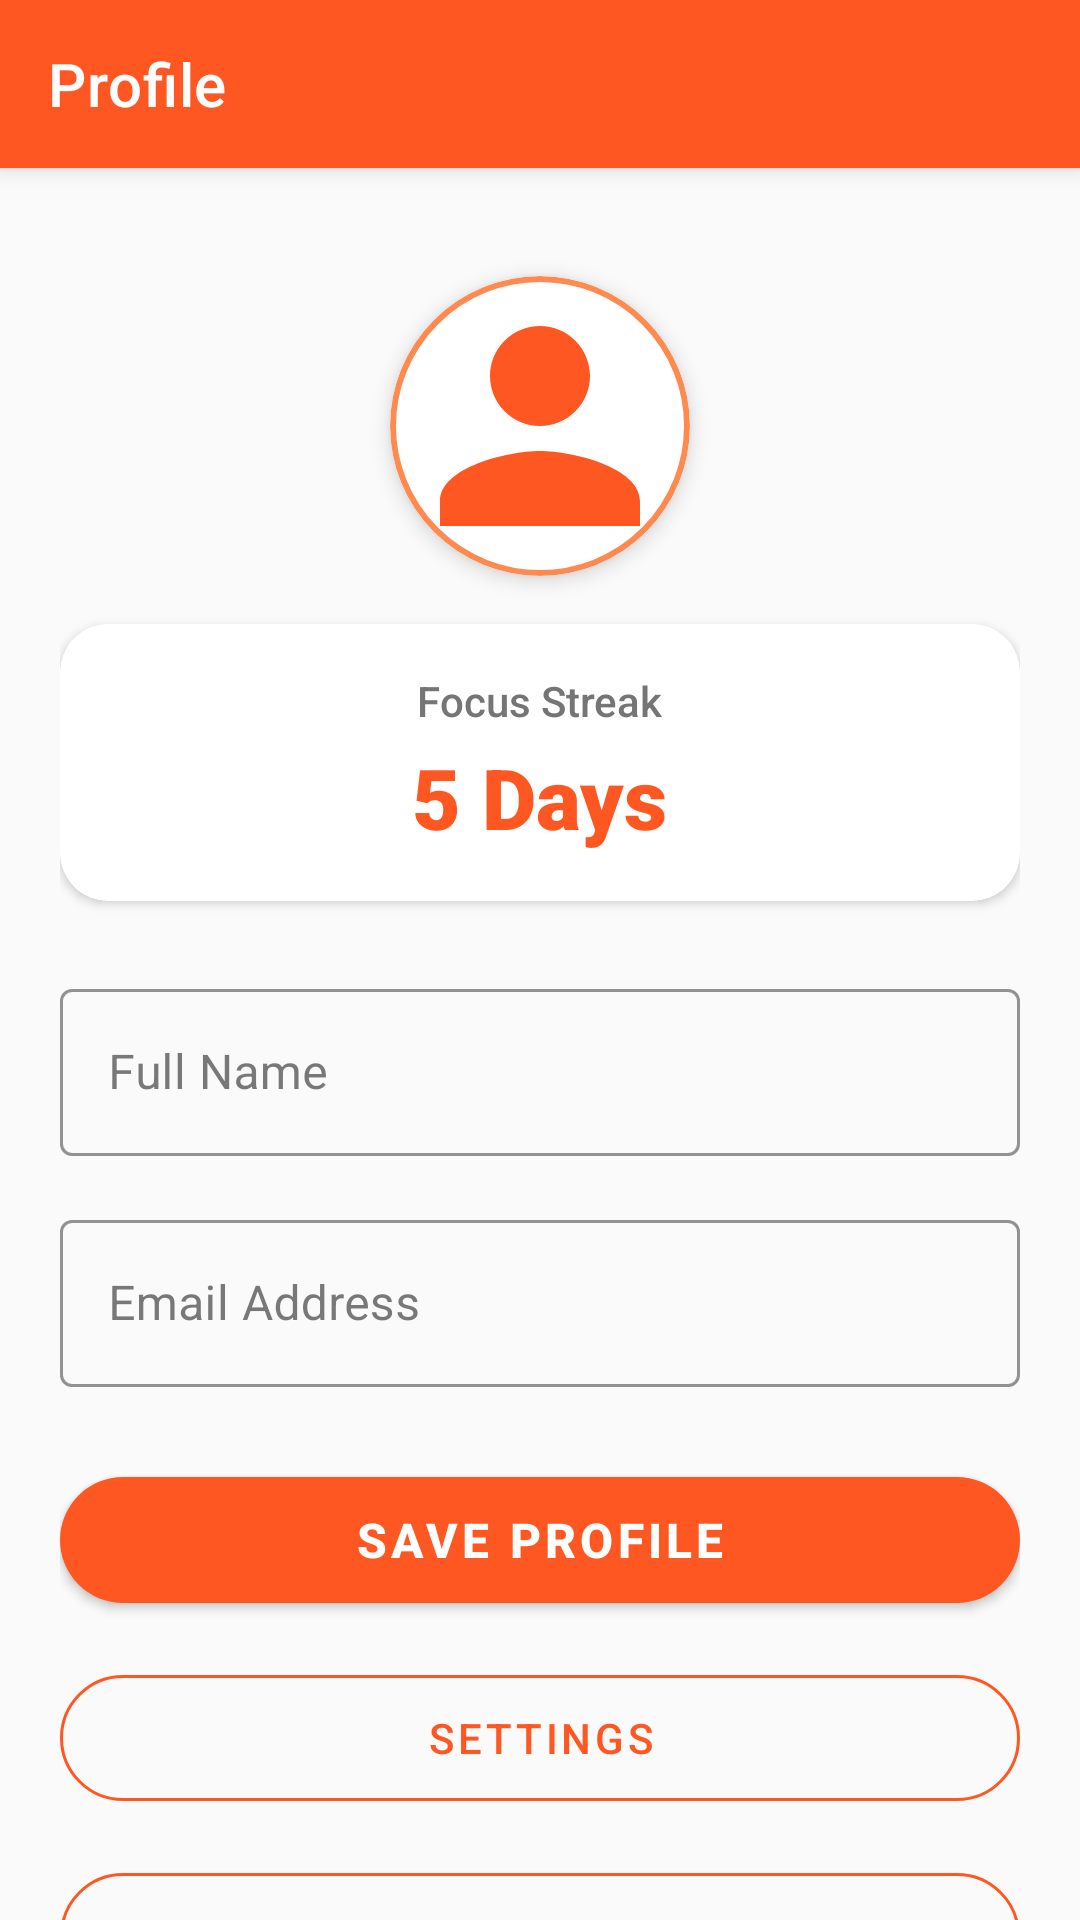

Screen size 1080 × 1920. Icon name, then its center in pixels as [x,y]:
profile: [540,426]
